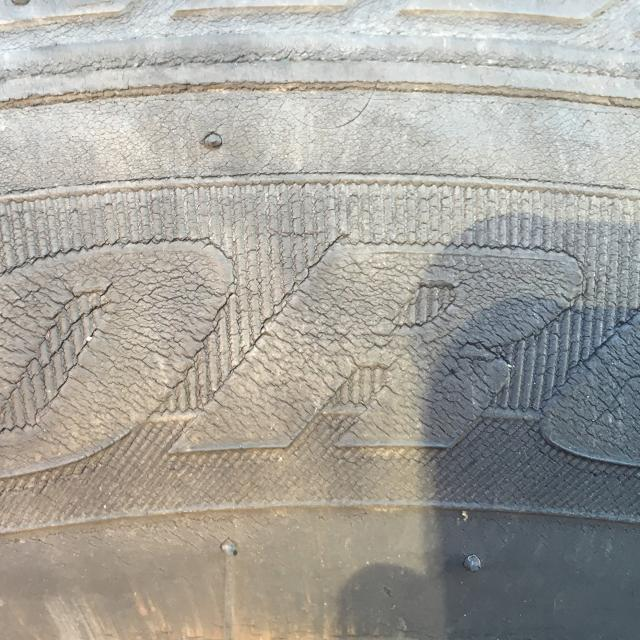Cracks: (0, 0, 640, 564)
